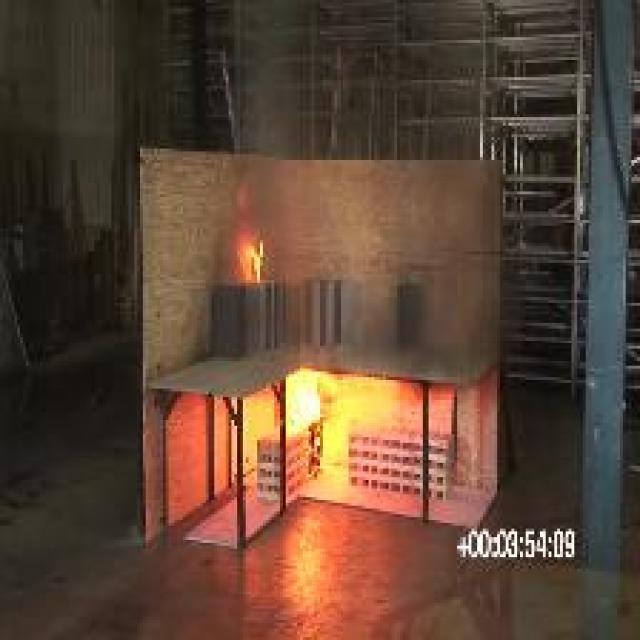Fire: (290, 363, 404, 471), (238, 232, 266, 284)
